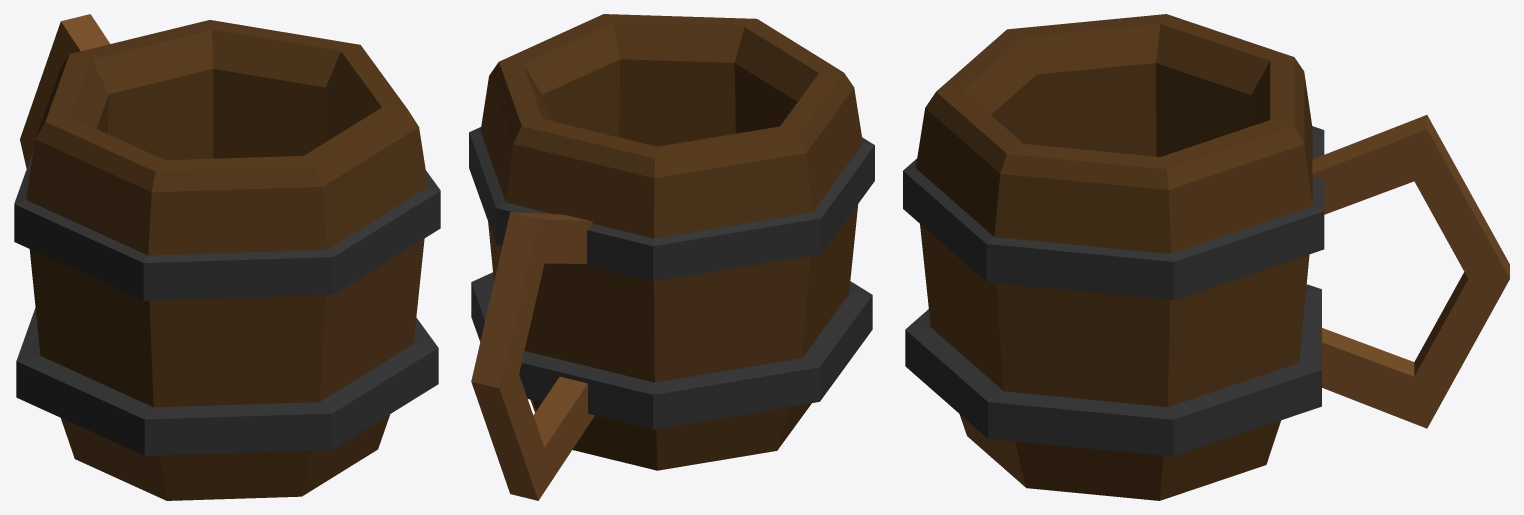
Rendered from F_BeerMug.fbx.
The picture shows the model from 3 angles, left to right: view 1: azimuth 30°, elevation 25°; view 2: azimuth 150°, elevation 25°; view 3: azimuth 270°, elevation 25°; orthographic projection. The views are drawn at different scales.
Visible parts, largest first — view 1: F_BeerMug; view 2: F_BeerMug; view 3: F_BeerMug.
Boxes of the visible parts, box(x1,y1,x2,y2) form: F_BeerMug: box(14, 14, 440, 500); F_BeerMug: box(469, 14, 874, 500); F_BeerMug: box(903, 14, 1509, 500).
Bounding box in the file's own units: 27.18 × 23.99 × 38.18.
